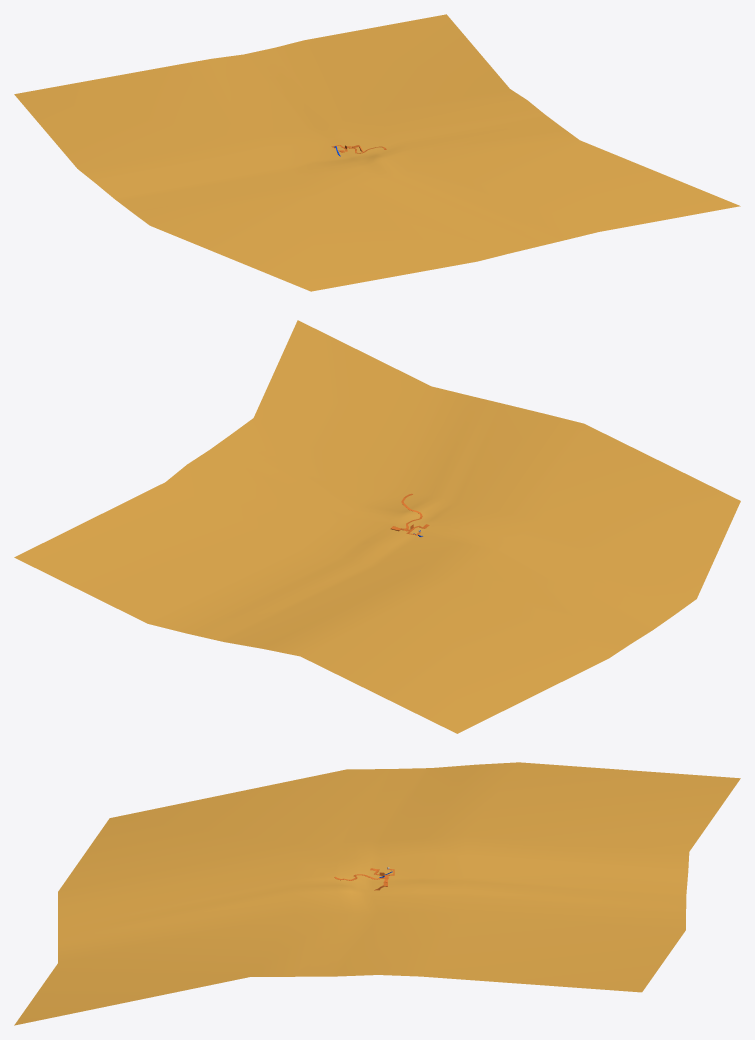
The model's file is awtsmoos.gltf.
3 renders of one model, top to bottom at view 1: azimuth 30°, elevation 25°; view 2: azimuth 150°, elevation 25°; view 3: azimuth 270°, elevation 25°, orthographic. The views are drawn at different scales.
Parts seen in each view (by area): view 1: Plane.001; view 2: Plane.001; view 3: Plane.001.
Part boxes in pixels (x1,y1,x2,y2): Plane.001: (14, 14, 740, 291); Plane.001: (14, 320, 740, 733); Plane.001: (14, 762, 740, 1025).
Size of the model in its own units: 830 by 57.23 by 949.
